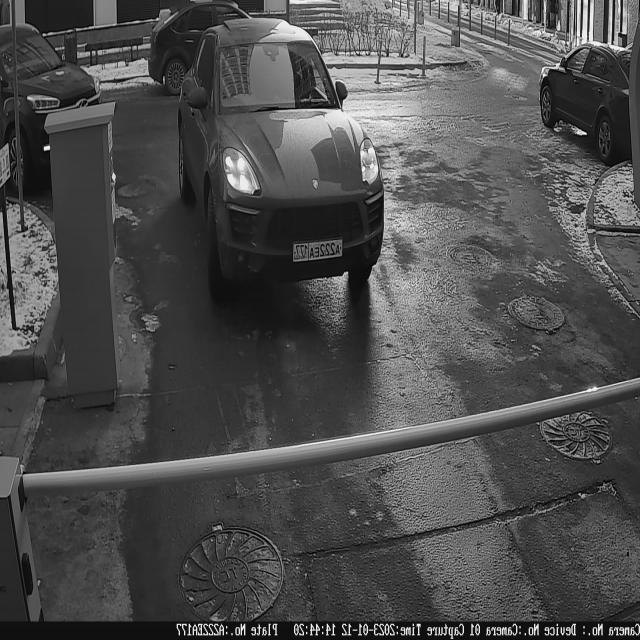car-plate-numbers: (291, 234, 346, 267)
